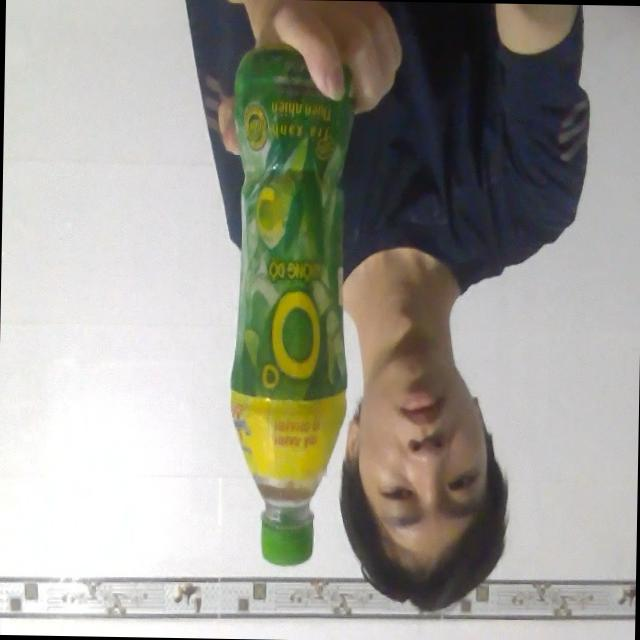tra xanh khong do: (209, 34, 357, 578)
